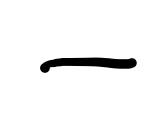minus: (40, 57, 136, 72)
